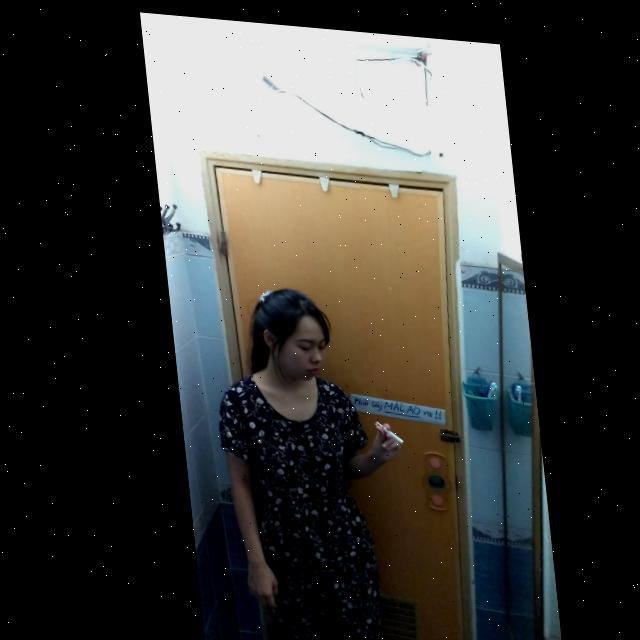cigarette: (366, 415, 395, 437)
